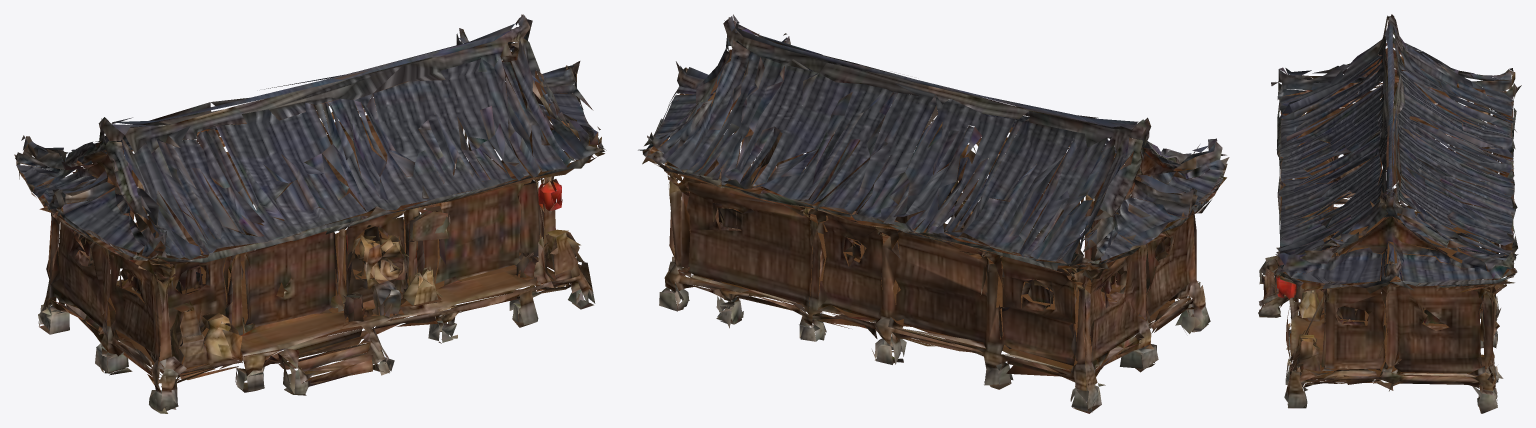
File: armazem_lod1.glb
3 renders of one model, left to right at view 1: azimuth 30°, elevation 25°; view 2: azimuth 150°, elevation 25°; view 3: azimuth 270°, elevation 25°, orthographic. The views are drawn at different scales.
Parts seen in each view (by area): view 1: armazem; view 2: armazem; view 3: armazem.
Boxes of the visible parts, x1=… form: armazem: x1=14, y1=14, x2=606, y2=413; armazem: x1=638, y1=14, x2=1229, y2=413; armazem: x1=1258, y1=14, x2=1521, y2=413.
Bounding box in the file's own units: 10.86 × 5.08 × 5.47.
Materials: 1 (1 with a texture image).
